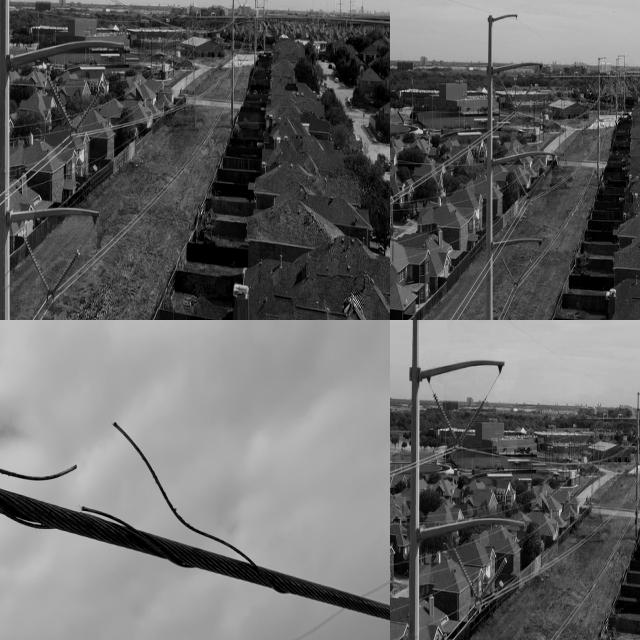杆塔: (0, 0, 134, 320), (219, 0, 252, 133)
正常绝缘子: (40, 64, 85, 147), (67, 69, 110, 147), (17, 231, 56, 307), (46, 242, 85, 313), (474, 549, 511, 606), (451, 543, 483, 605), (451, 396, 487, 449), (432, 391, 462, 449), (524, 166, 550, 205), (498, 73, 519, 114), (498, 250, 519, 290), (511, 163, 532, 202), (513, 80, 535, 116), (513, 256, 535, 291)
电缆破损: (0, 404, 306, 600)
